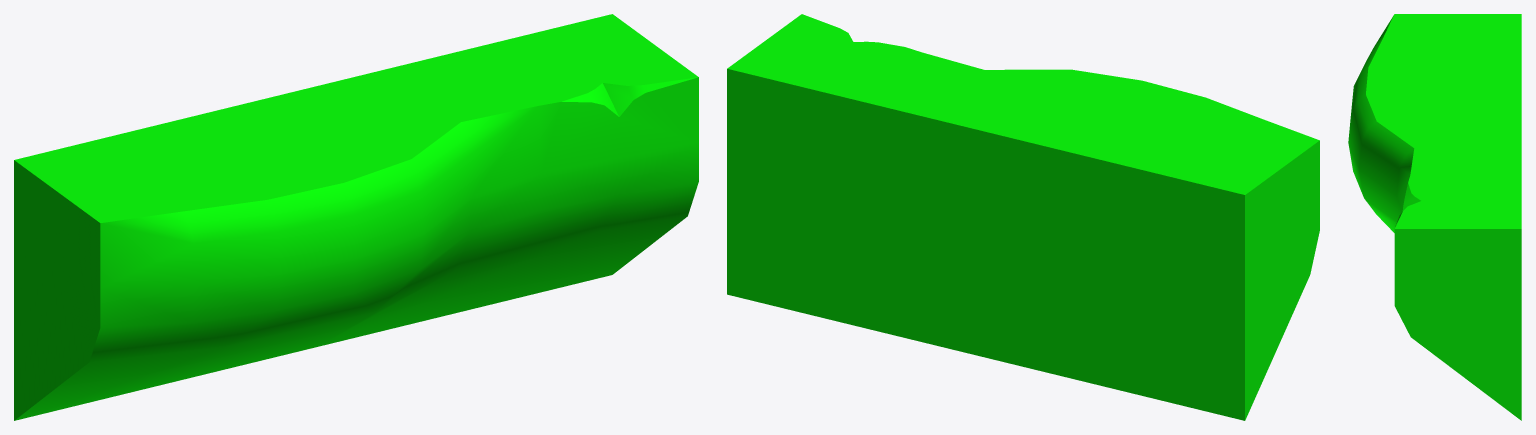
The model's file is SM_GrassGround_17.FBX.
3 renders of one model, left to right at view 1: azimuth 30°, elevation 25°; view 2: azimuth 150°, elevation 25°; view 3: azimuth 270°, elevation 25°, orthographic. The views are drawn at different scales.
Visible parts, largest first — view 1: 17; view 2: 17; view 3: 17.
Boxes of the visible parts, <box> form: 17: <box>14,14,698,420</box>; 17: <box>727,14,1319,420</box>; 17: <box>1348,14,1521,420</box>.
Size of the model in its own units: 99.9 by 41.62 by 34.04.
